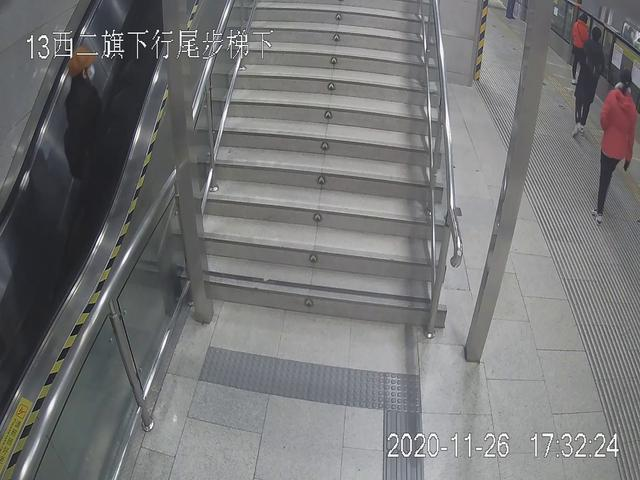person: (48, 45, 115, 223), (590, 68, 639, 223), (577, 28, 611, 135)
